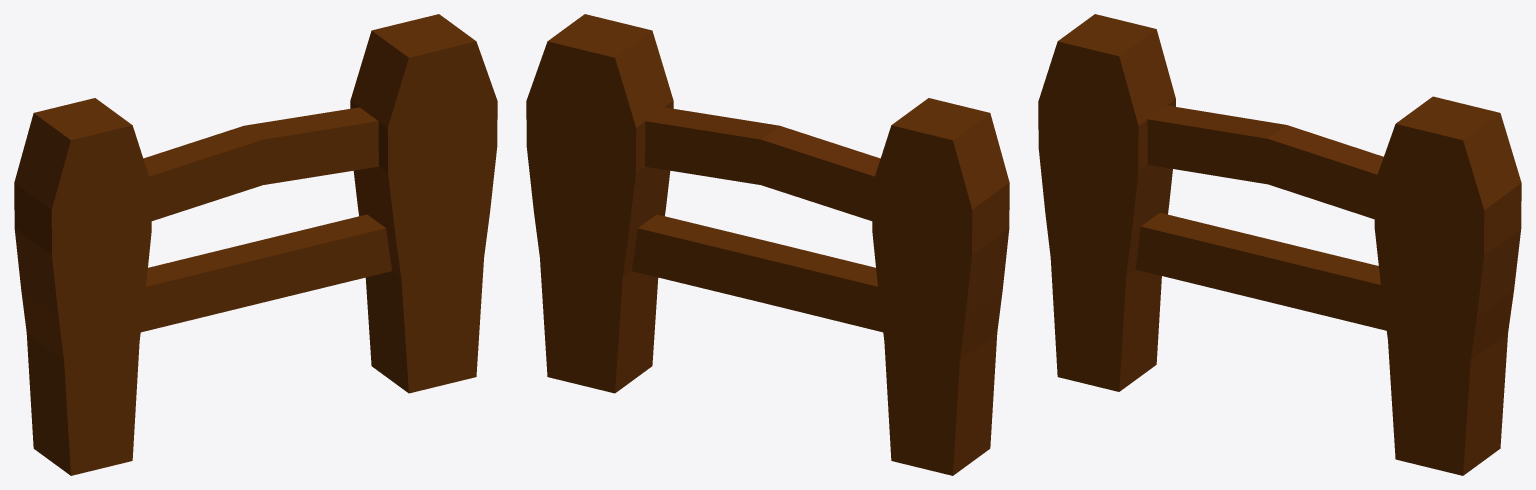
File: Fence.fbx
3 renders of one model, left to right at view 1: azimuth 30°, elevation 25°; view 2: azimuth 150°, elevation 25°; view 3: azimuth 330°, elevation 25°, orthographic.
Parts seen in each view (by area): view 1: Fence; view 2: Fence; view 3: Fence.
Part boxes in pixels (<box>): Fence: <box>14,14,497,475</box>; Fence: <box>526,14,1009,475</box>; Fence: <box>1038,14,1521,475</box>.
Size of the model in its own units: 1.31 by 0.9432 by 0.1904.
